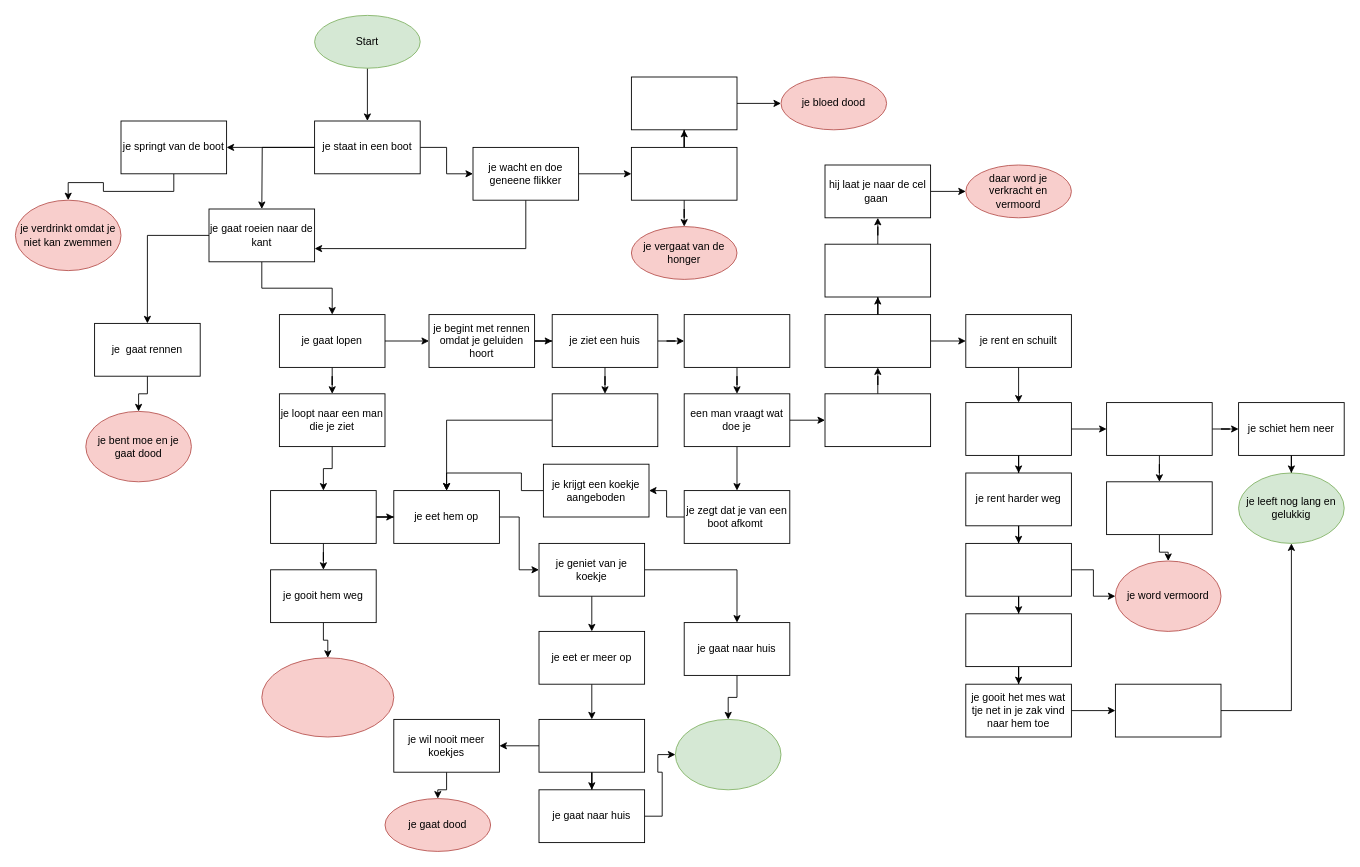
Some shapes in this 1360 by 867 pixel diagram are drawn without their labels. Each missing label, with the box of its shape:
hij geeft je een koekje: (270, 490, 376, 543)
hij schiet op je met zijn geweer die die blijkbaar had: (824, 314, 931, 367)
je doet je handen omhoog: (824, 243, 931, 297)
je doet nog steeds niks: (631, 147, 737, 200)
je eet je been: (631, 76, 737, 130)
je gaat naar binnen: (683, 314, 790, 367)
je gooit een raam in met een steen omdat je een koekje ziet: (551, 393, 658, 447)
je leeft nog lang en gelukkig met veel koekjes: (675, 719, 781, 790)
je pakt hem op: (1106, 402, 1212, 455)
je rent weg: (824, 393, 931, 447)
je roept dat je kinderen heb: (965, 613, 1071, 667)
je schiet als waarschuwing: (1106, 481, 1212, 535)
je valt: (965, 543, 1071, 596)
je verdient de doodstraf omdat je een koekje weggooit: (261, 657, 394, 737)
je vermoord hem: (1115, 683, 1221, 737)
je word dik: (538, 719, 645, 772)
je ziet een wapen: (965, 402, 1071, 455)
